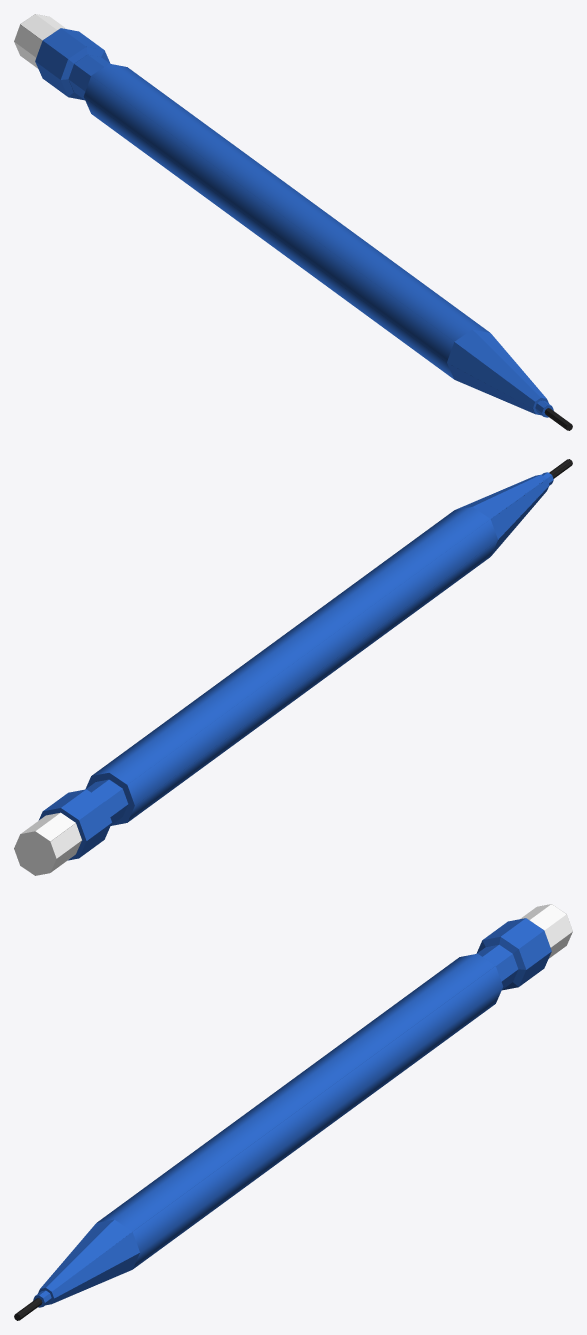
File: pen.FBX
3 views of the same model, one above another, from view 1: azimuth 30°, elevation 25°; view 2: azimuth 150°, elevation 25°; view 3: azimuth 330°, elevation 25° (orthographic).
Parts seen in each view (by area): view 1: pen; view 2: pen; view 3: pen.
Part boxes in pixels (<box>): pen: <box>14,14,572,430</box>; pen: <box>14,459,572,875</box>; pen: <box>14,904,572,1320</box>.
Size of the model in its own units: 0.6242 by 0.6242 by 11.21.
